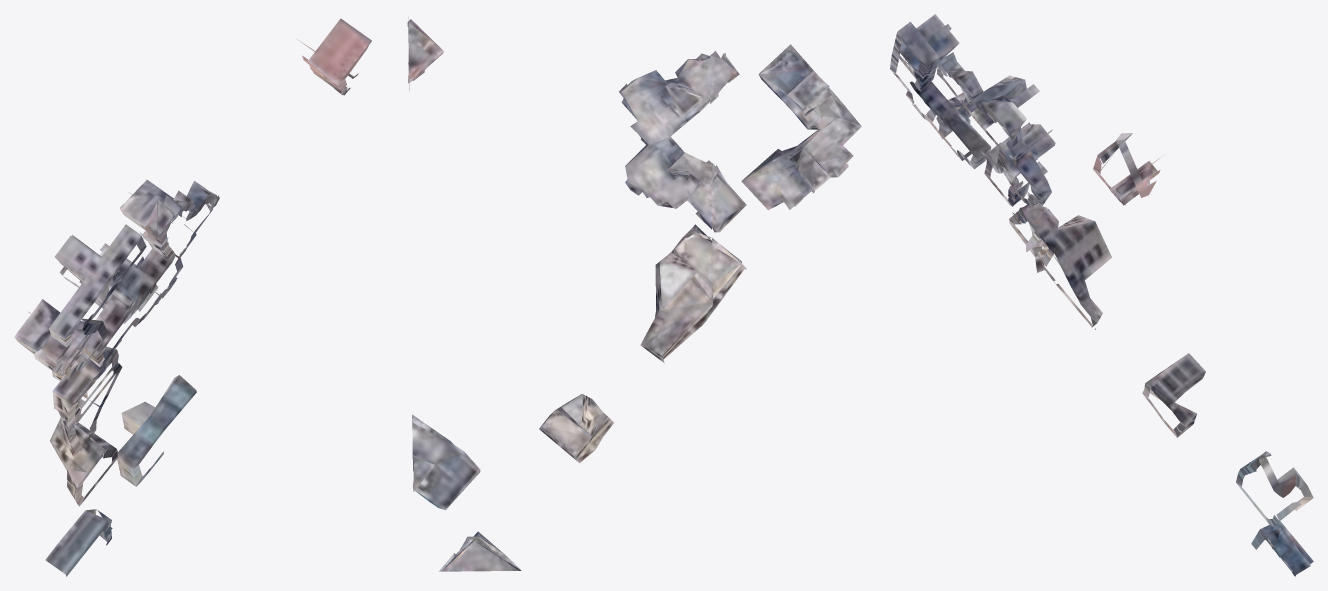
3 renders of one model, left to right at view 1: azimuth 30°, elevation 25°; view 2: azimuth 150°, elevation 25°; view 3: azimuth 270°, elevation 25°, orthographic. The views are drawn at different scales.
Bounding box in the file's own units: 96.02 × 120 × 91.36.
1 material, 1 textured.
